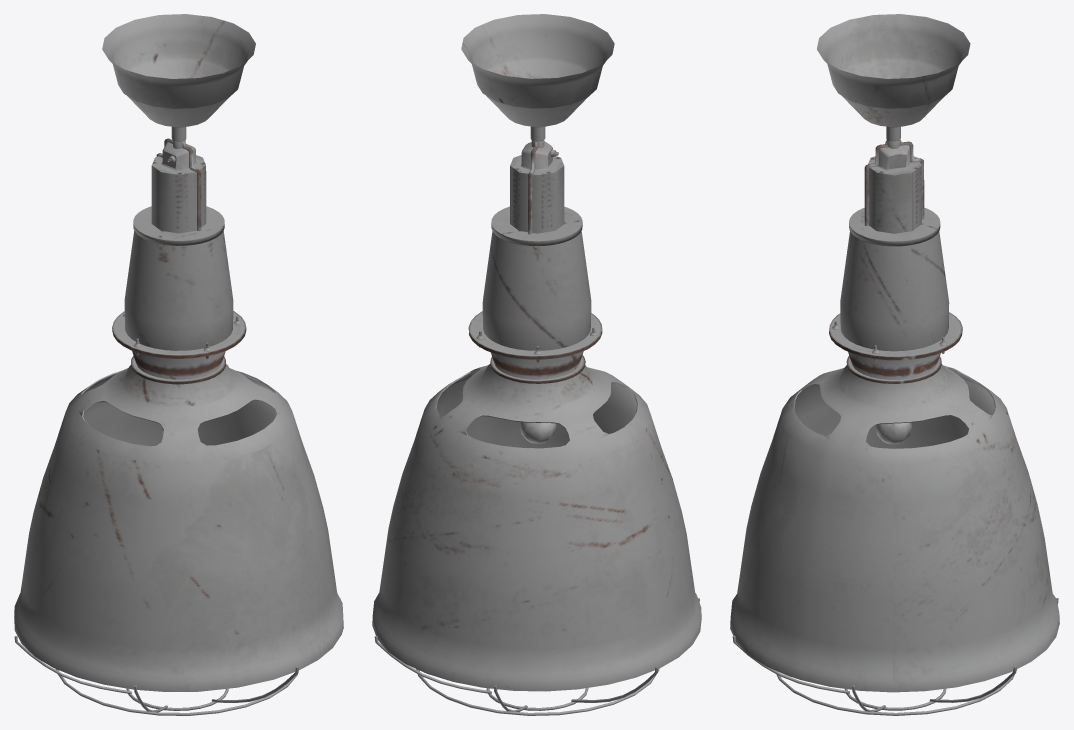
Rendered from Prop_OverheadLamp.fbx.
The picture shows the model from 3 angles, left to right: view 1: azimuth 30°, elevation 25°; view 2: azimuth 150°, elevation 25°; view 3: azimuth 270°, elevation 25°; orthographic projection.
Visible parts, largest first — view 1: Prop_OverheadLamp; view 2: Prop_OverheadLamp; view 3: Prop_OverheadLamp.
Part boxes in pixels (bbox=[...]): Prop_OverheadLamp: bbox=[14, 14, 343, 715]; Prop_OverheadLamp: bbox=[372, 14, 701, 715]; Prop_OverheadLamp: bbox=[730, 14, 1059, 715].
Bounding box in the file's own units: 27.28 × 58.61 × 27.23.
